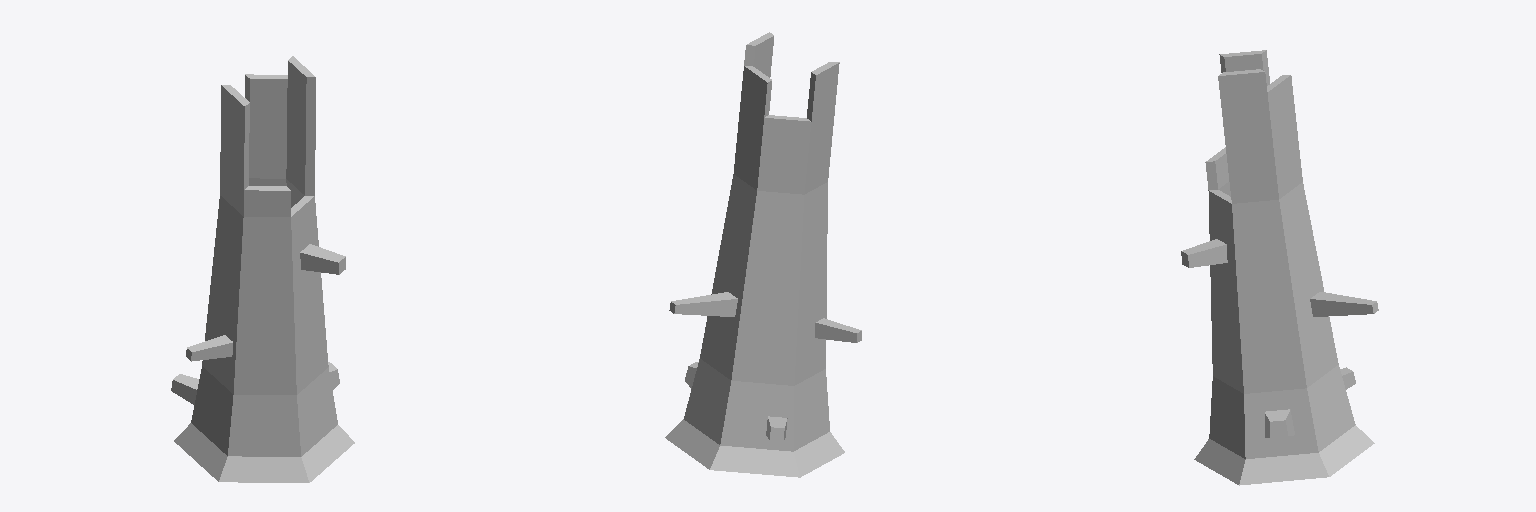
The model's file is Trunk_1.obj.
3 renders of one model, left to right at view 1: azimuth 30°, elevation 25°; view 2: azimuth 150°, elevation 25°; view 3: azimuth 270°, elevation 25°, orthographic.
Visible parts, largest first — view 1: Trunk_1; view 2: Trunk_1; view 3: Trunk_1.
Part boxes in pixels (x1,y1,x2,y2): Trunk_1: (171, 56, 354, 482); Trunk_1: (665, 32, 861, 477); Trunk_1: (1181, 50, 1378, 485).
Size of the model in its own units: 0.5554 by 1.33 by 0.5981.